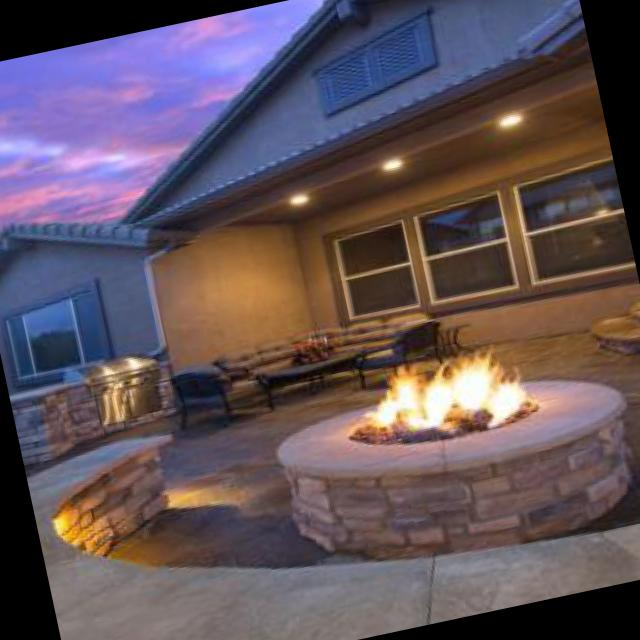fire: (336, 334, 536, 468)
